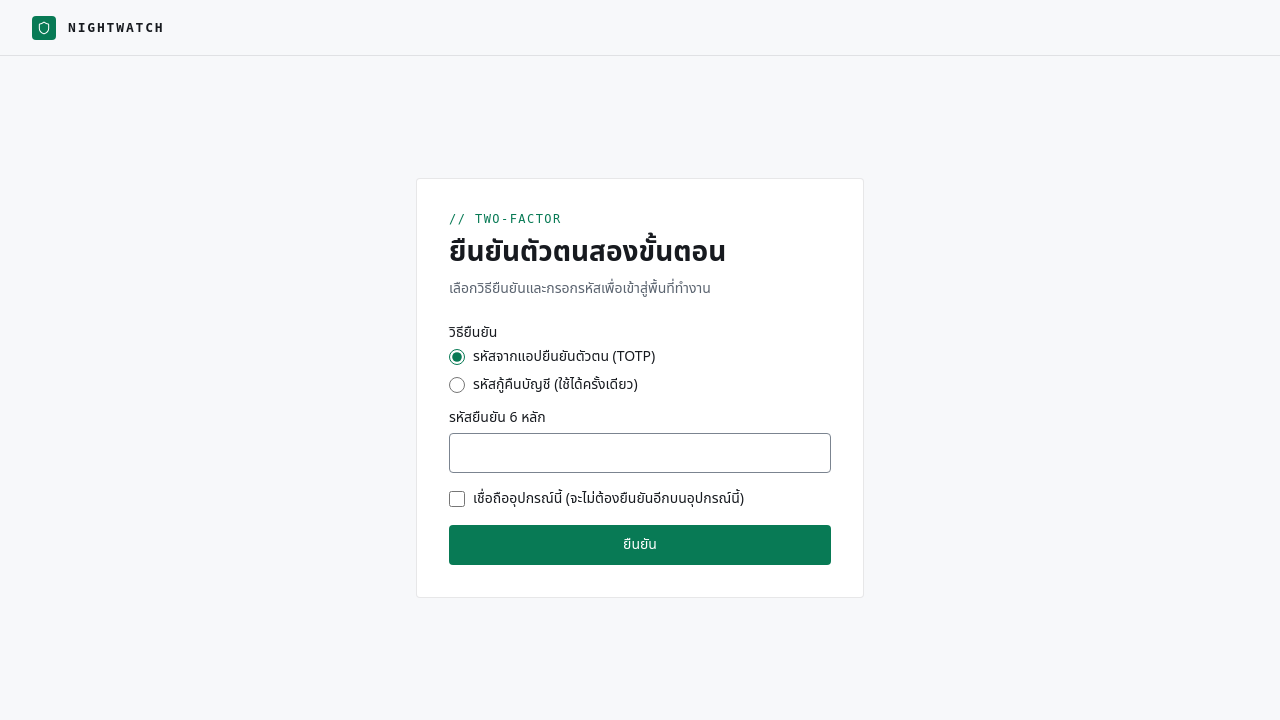
it: TwoFactorPage challenge › an invalid TOTP stays on the challenge with a visible error
The image size is (1280, 720).
Type "000000" into the field with test id "two-factor-code" at [640, 453], box [449,433,831,473]
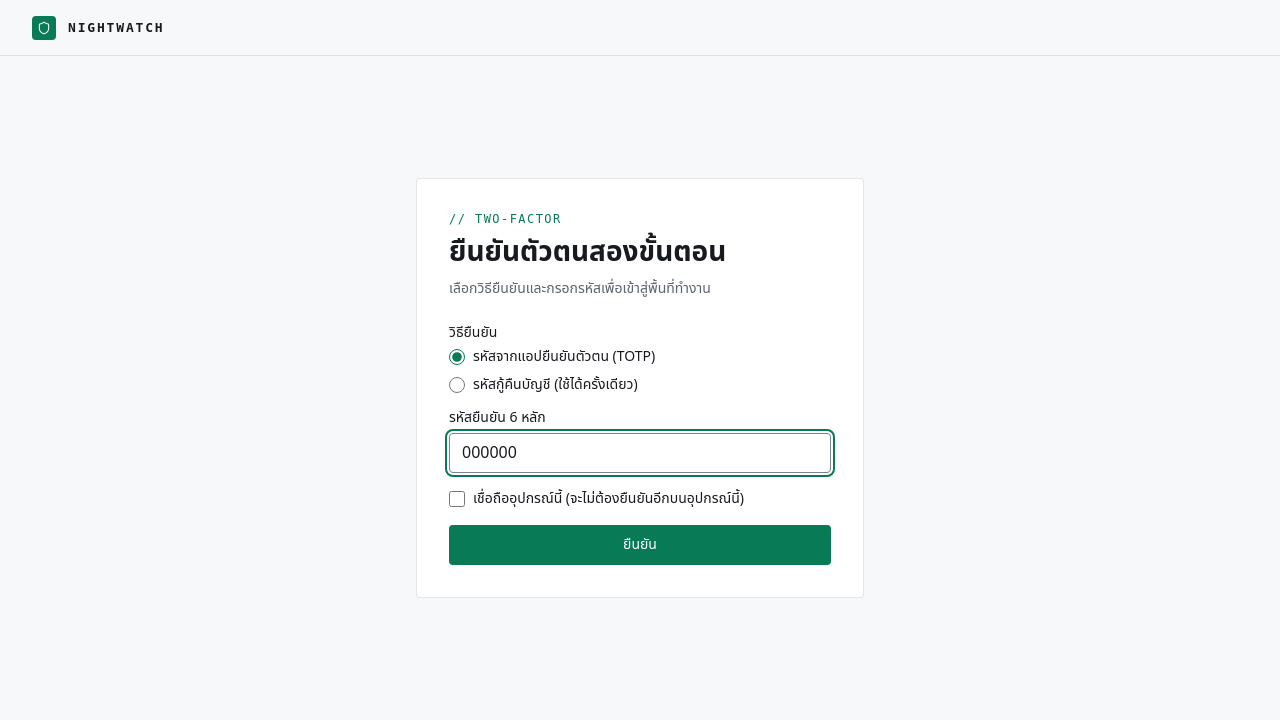
Click the button with test id "two-factor-submit" at [640, 545], box [449,525,831,565]
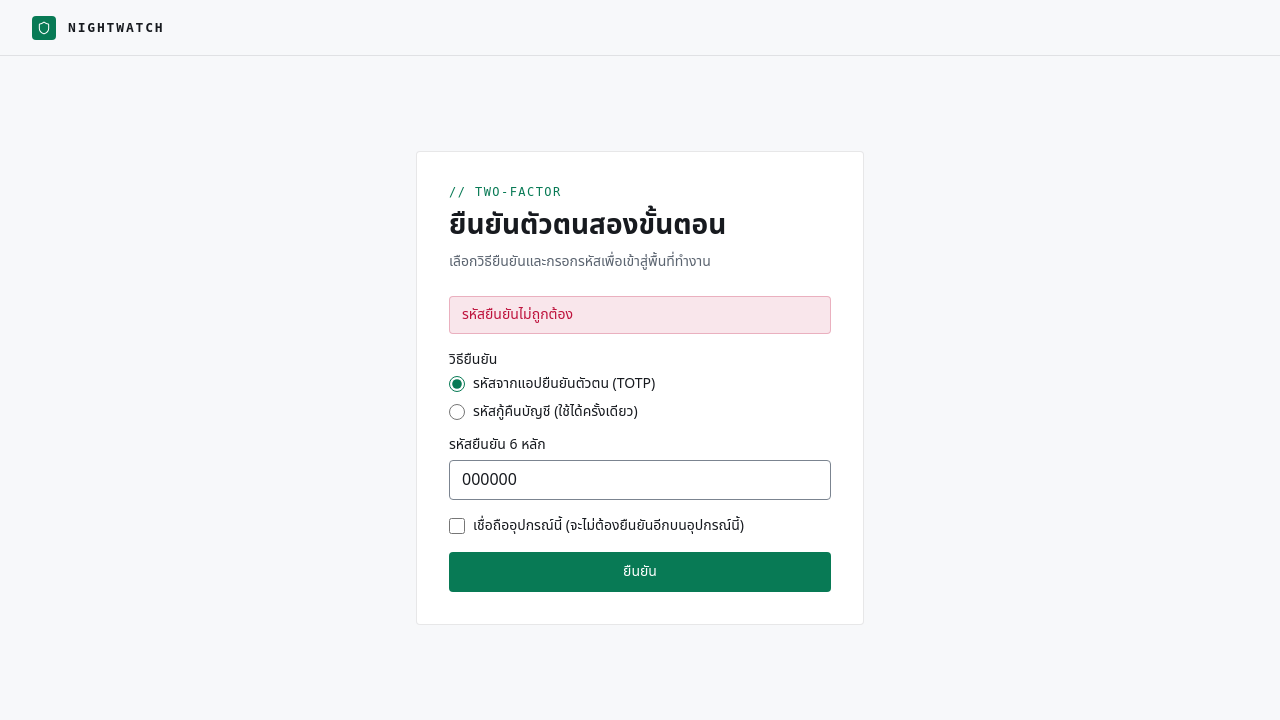
Expected: the button with test id "two-factor-submit" is shown, [449,552,831,592]
Result: the message "รหัสยืนยันไม่ถูกต้อง" is shown at [449,296,831,334]
